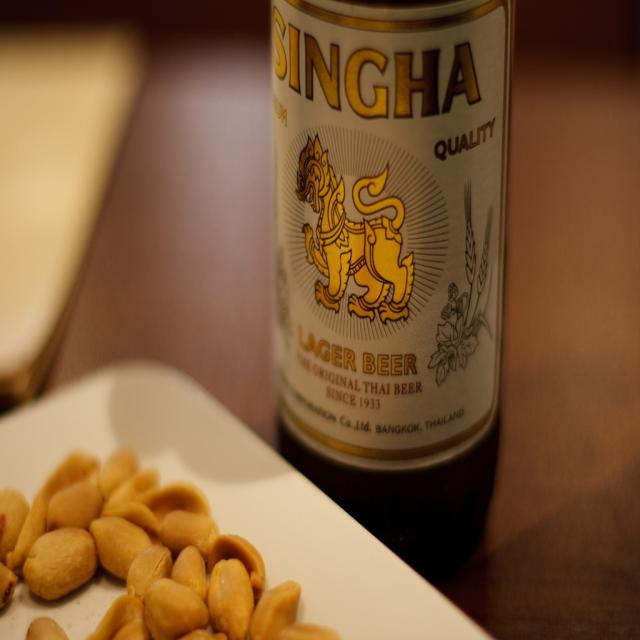singha: (274, 2, 509, 467)
